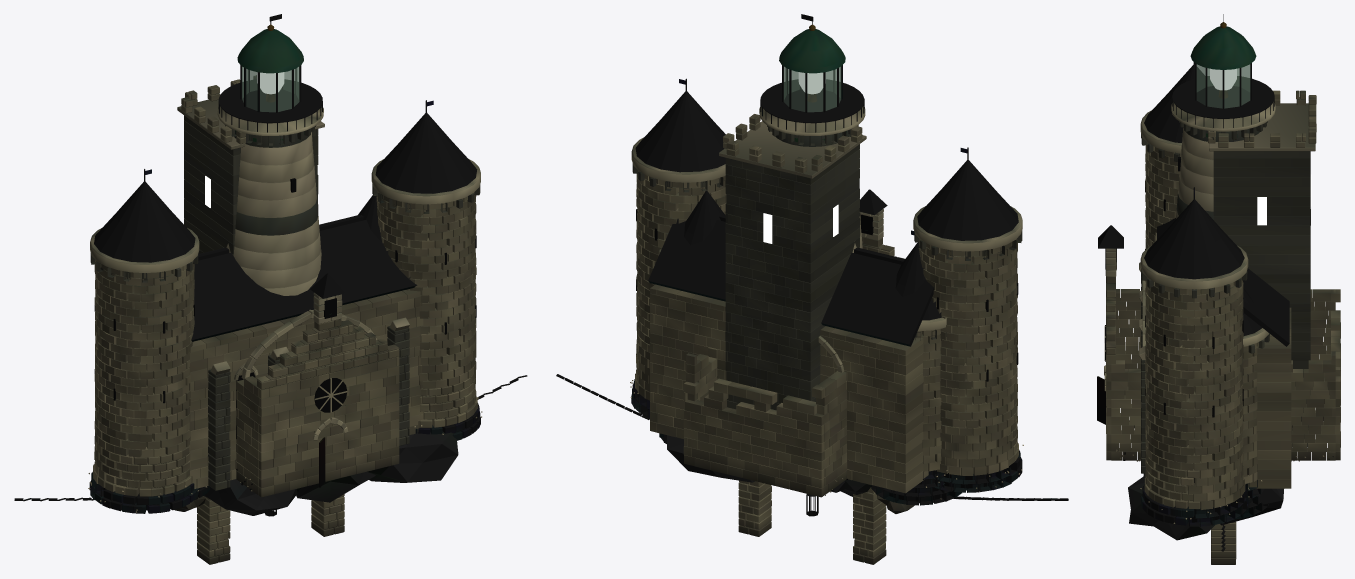
File: sunken_bastion_kit.glb
The picture shows the model from 3 angles, left to right: view 1: azimuth 30°, elevation 25°; view 2: azimuth 150°, elevation 25°; view 3: azimuth 270°, elevation 25°; orthographic projection.
Visible parts, largest first — view 1: Kit_Keep, Kit_DrownedChapel, Kit_Fogbeacon, Kit_GatehouseArch; view 2: Kit_Keep, Kit_DrownedChapel, Kit_Fogbeacon, Kit_SeaGate, Kit_GatehouseArch, Kit_ChainSpan; view 3: Kit_Keep, Kit_DrownedChapel, Kit_Fogbeacon, Kit_SeaGate, Kit_GatehouseArch.
Part boxes in pixels (x1,y1,x2,y2): Kit_Keep: (88, 75, 482, 515); Kit_DrownedChapel: (236, 273, 399, 497); Kit_Fogbeacon: (217, 14, 323, 295); Kit_GatehouseArch: (197, 494, 344, 564); Kit_Keep: (630, 78, 1023, 496); Kit_DrownedChapel: (683, 189, 904, 497); Kit_Fogbeacon: (759, 14, 865, 252); Kit_SeaGate: (658, 181, 962, 505); Kit_GatehouseArch: (738, 480, 886, 564); Kit_ChainSpan: (556, 374, 1068, 516); Kit_Keep: (1128, 62, 1316, 540); Kit_DrownedChapel: (1097, 225, 1340, 461); Kit_Fogbeacon: (1171, 14, 1275, 219); Kit_SeaGate: (1235, 288, 1269, 519); Kit_GatehouseArch: (1211, 521, 1236, 564).
Size of the model in its own units: 60.01 by 59.03 by 25.15.
